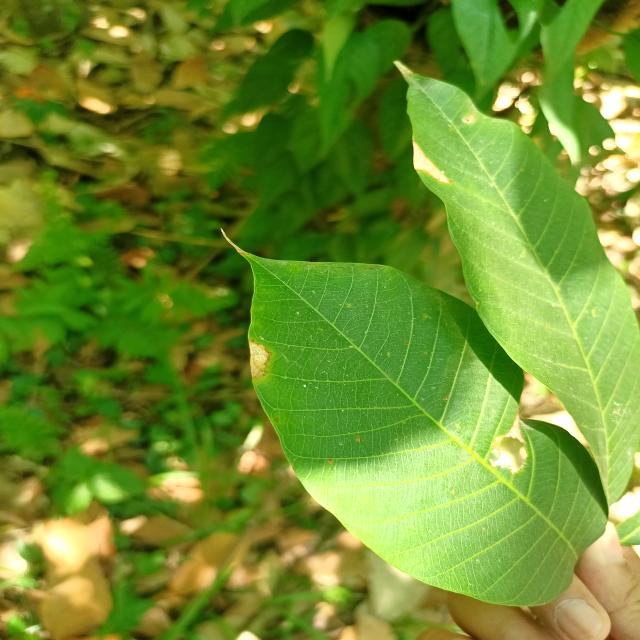Leaf-Blight: (413, 142, 451, 184), (248, 340, 270, 379), (506, 410, 523, 442)
